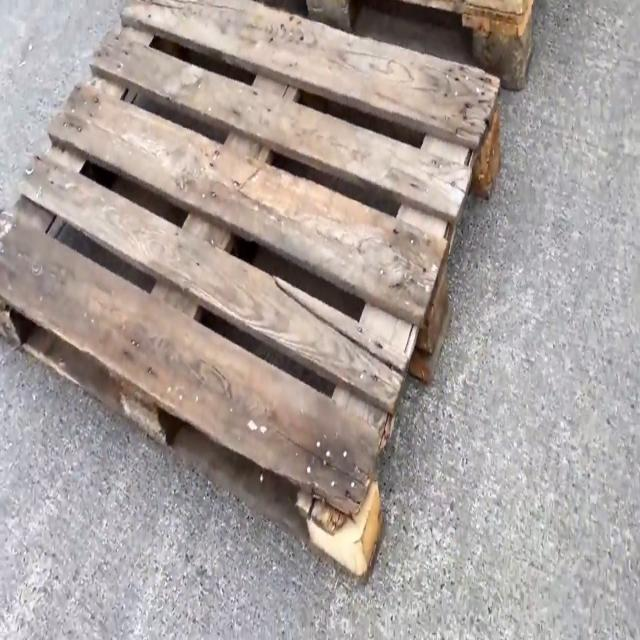Palette: (0, 0, 505, 592), (284, 0, 543, 99)
